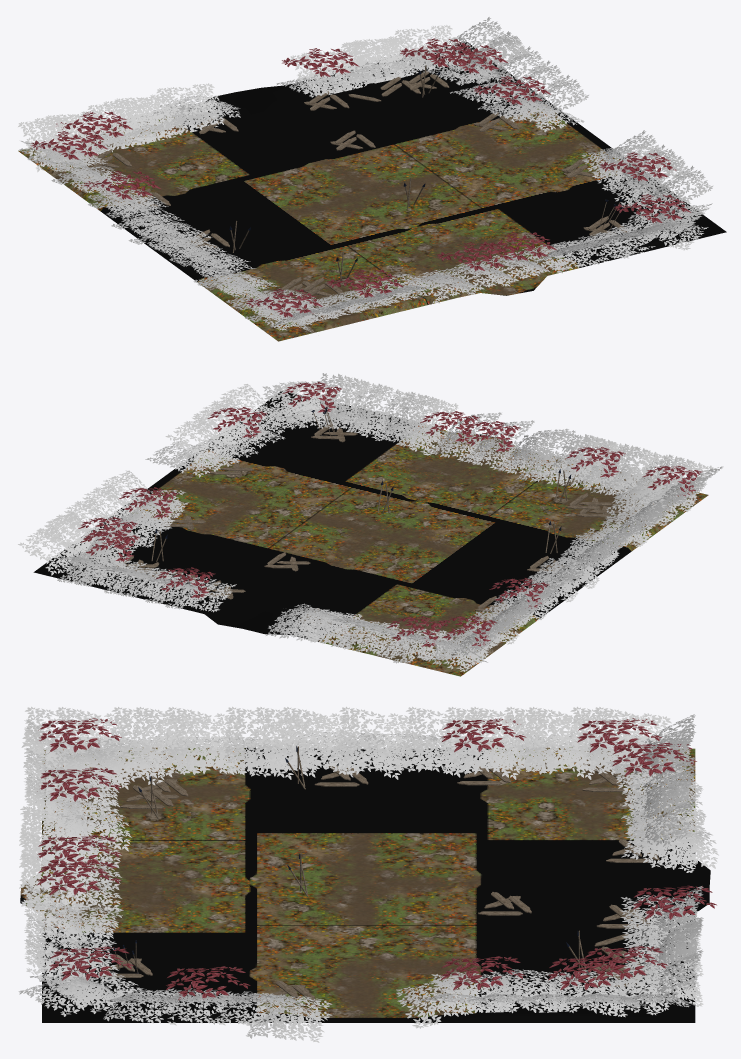
Rendered from 2 Puertas 1.fbx.
The picture shows the model from 3 angles, top to bottom: view 1: azimuth 30°, elevation 25°; view 2: azimuth 150°, elevation 25°; view 3: azimuth 270°, elevation 25°; orthographic projection. The views are drawn at different scales.
Visible parts, largest first — view 1: pPlane62; view 2: pPlane62; view 3: pPlane62.
Boxes of the visible parts, x1,y1,x2,y2 form: pPlane62: (18, 17, 726, 341); pPlane62: (18, 373, 723, 676); pPlane62: (18, 706, 718, 1042).
Size of the model in its own units: 524 by 41.31 by 514.
